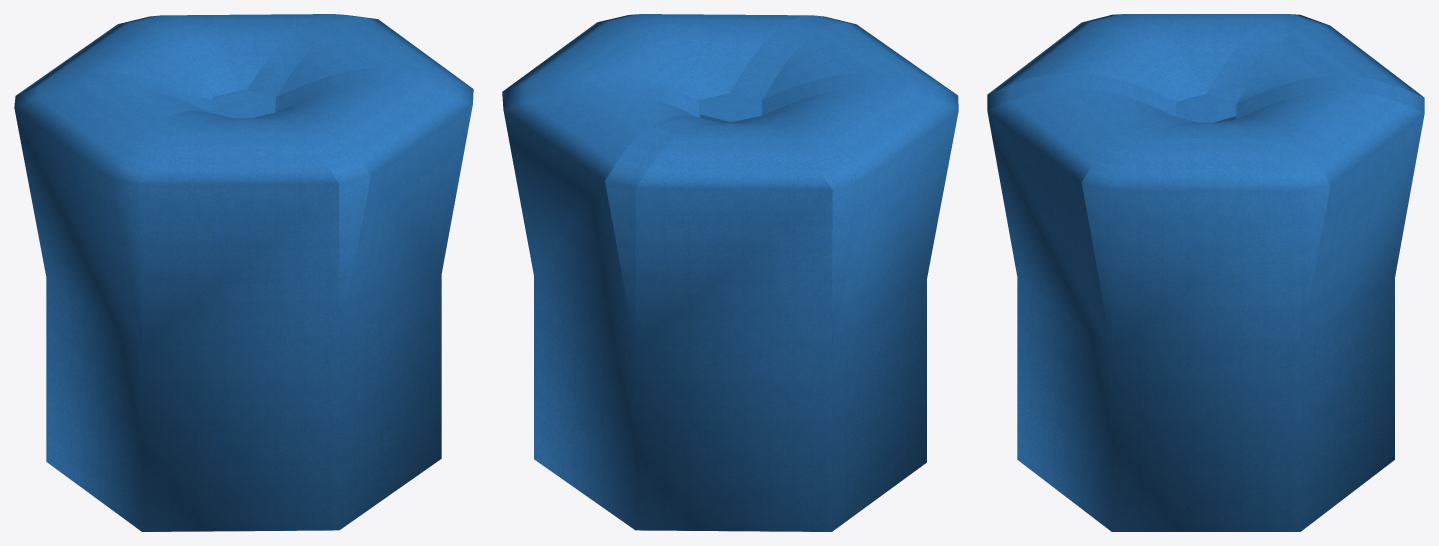
File: hat4.dae
3 views of the same model, side by side, from view 1: azimuth 30°, elevation 25°; view 2: azimuth 150°, elevation 25°; view 3: azimuth 270°, elevation 25° (orthographic).
Parts seen in each view (by area): view 1: instance_0; view 2: instance_0; view 3: instance_0.
Part boxes in pixels (x1,y1,x2,y2): instance_0: [14, 14, 473, 531]; instance_0: [502, 14, 958, 531]; instance_0: [987, 14, 1424, 531].
Bounding box in the file's own units: 0.3485 × 0.3677 × 0.3575.
Materials: 1 (1 with a texture image).
